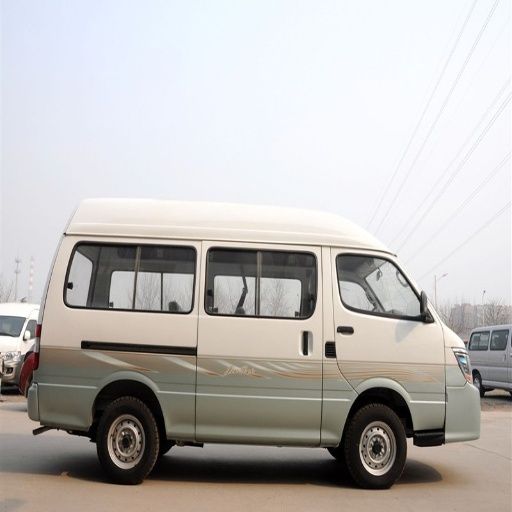back_right_door: (330, 247, 412, 347), (68, 240, 170, 309)
trunk: (48, 320, 215, 436), (325, 364, 446, 439)
